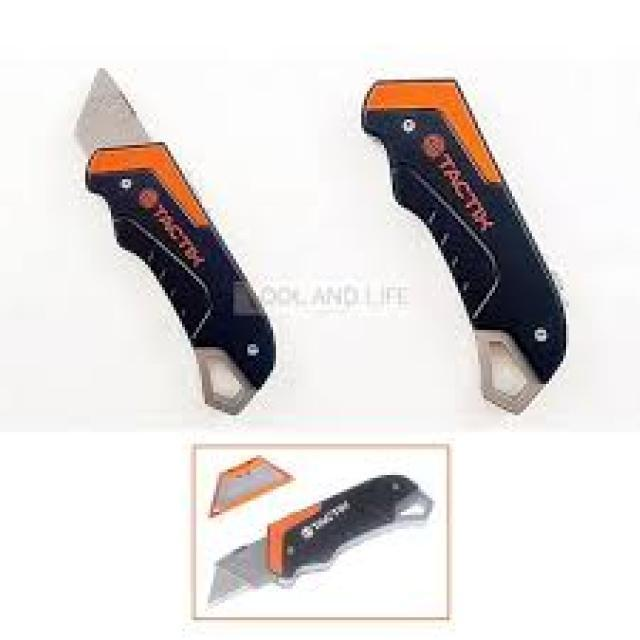cutter: (360, 63, 596, 434), (54, 54, 280, 428), (210, 463, 440, 607)
